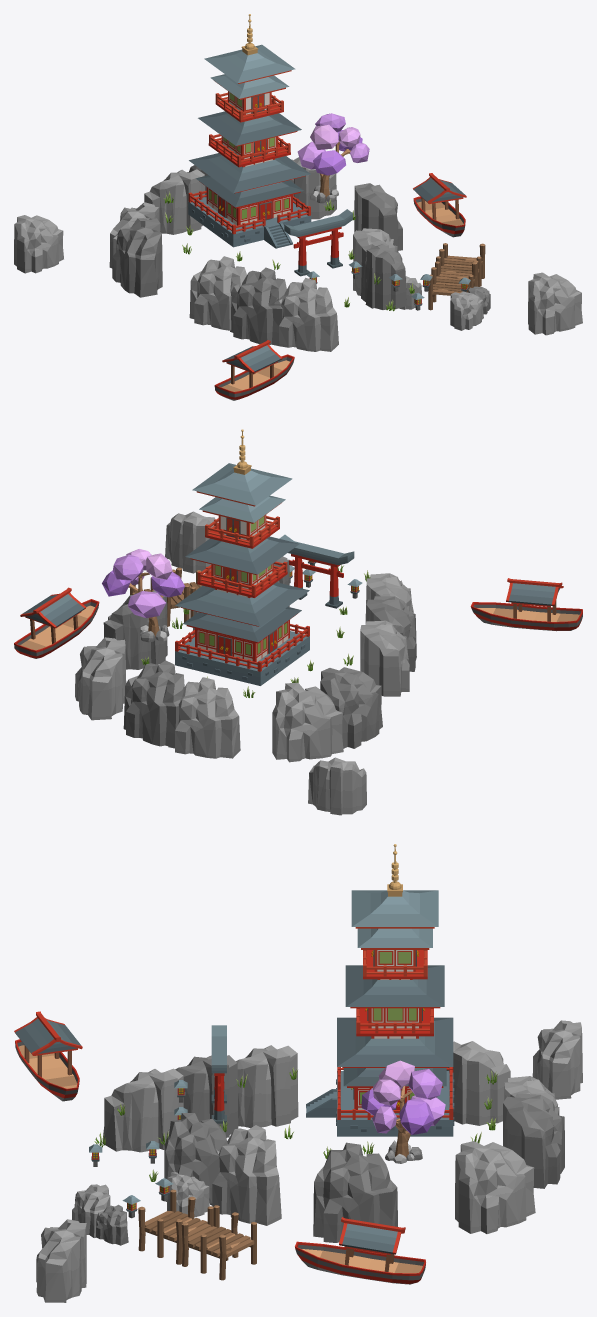
File: sea_torii_island.glb
3 renders of one model, top to bottom at view 1: azimuth 30°, elevation 25°; view 2: azimuth 150°, elevation 25°; view 3: azimuth 270°, elevation 25°, orthographic. The views are drawn at different scales.
Visible parts, largest first — view 1: japanes temple_17, stone large (5)_29, stone large 2 (4)_30, stone large 2 (3)_26, sakura tree_51, stone large (4)_24, stone large (7)_28, japanese boat_46, stone large 2_38, stone large (8)_23, stone large (2)_22, japanese boat (1)_8 (+8 smaller); view 2: japanes temple_17, stone large (3)_3, stone large (2)_22, stone large 2 (2)_39, japanese boat_46, sakura tree_51, stone large (1)_2, stone large 2 (3)_26, japanese boat (1)_8, stone large (4)_24, stone large (8)_23, stone large 2 (1)_7 (+4 smaller); view 3: japanes temple_17, stone large (1)_2, stone large 2 (1)_7, stone large_41, japanese boat (1)_8, stone large (5)_29, sakura tree_51, stone large (4)_24, stone large 2 (2)_39, stone large (3)_3, japanese boat_46, stone large (7)_28 (+10 smaller).
Boxes of the visible parts, <box> form: japanes temple_17: <box>188,14,311,248</box>; stone large (5)_29: <box>274,277,338,351</box>; stone large 2 (4)_30: <box>230,267,286,346</box>; stone large 2 (3)_26: <box>112,218,162,297</box>; sakura tree_51: <box>297,113,369,198</box>; stone large (4)_24: <box>189,256,246,330</box>; stone large (7)_28: <box>528,272,582,335</box>; japanese boat_46: <box>214,340,294,400</box>; stone large 2_38: <box>361,244,406,309</box>; stone large (8)_23: <box>14,215,63,273</box>; stone large (2)_22: <box>144,169,205,234</box>; japanese boat (1)_8: <box>413,173,466,237</box>; japanes temple_17: <box>175,429,309,685</box>; stone large (3)_3: <box>272,682,343,762</box>; stone large (2)_22: <box>168,677,240,758</box>; stone large 2 (2)_39: <box>123,660,184,747</box>; japanese boat_46: <box>470,578,582,631</box>; sakura tree_51: <box>102,549,184,637</box>; stone large (1)_2: <box>75,637,126,720</box>; stone large 2 (3)_26: <box>320,667,382,748</box>; japanese boat (1)_8: <box>14,587,99,658</box>; stone large (4)_24: <box>360,620,409,696</box>; stone large (8)_23: <box>308,757,366,815</box>; stone large 2 (1)_7: <box>103,590,167,669</box>; japanes temple_17: <box>306,844,454,1136</box>; stone large (1)_2: <box>455,1141,535,1233</box>; stone large 2 (1)_7: <box>313,1142,397,1242</box>; stone large_41: <box>210,1125,281,1225</box>; japanese boat (1)_8: <box>295,1217,425,1284</box>; stone large (5)_29: <box>102,1068,183,1152</box>; sakura tree_51: <box>361,1060,445,1157</box>; stone large (4)_24: <box>236,1045,298,1128</box>; stone large 2 (2)_39: <box>503,1093,564,1188</box>; stone large (3)_3: <box>446,1041,510,1125</box>; japanese boat_46: <box>14,1011,82,1101</box>; stone large (7)_28: <box>36,1219,86,1302</box>.
Size of the model in its own units: 17.12 by 11.36 by 17.51.
Materials: 1 (1 with a texture image).
